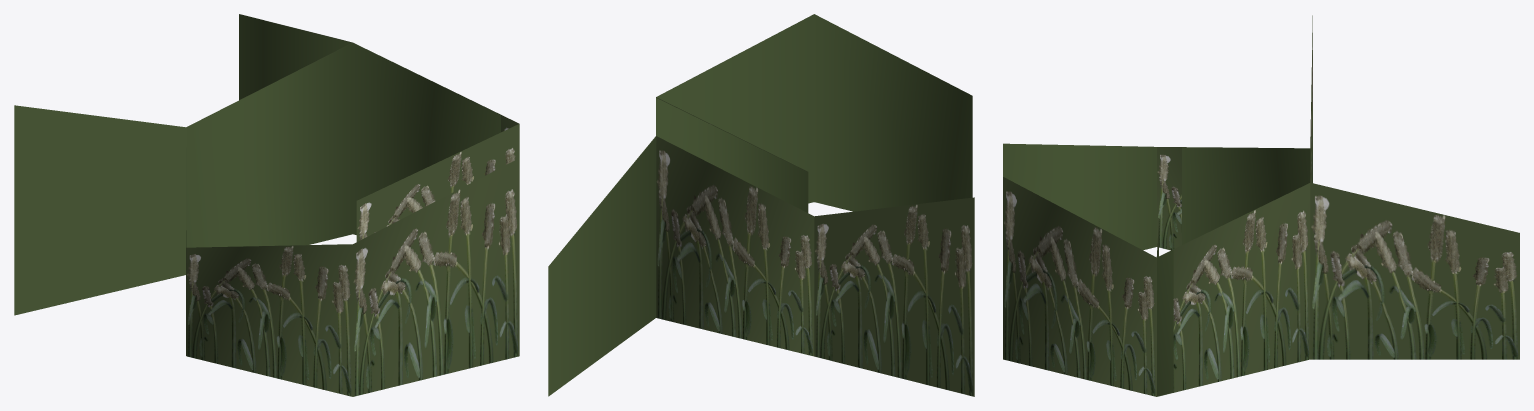
File: mveg5.glb
The picture shows the model from 3 angles, left to right: view 1: azimuth 30°, elevation 25°; view 2: azimuth 150°, elevation 25°; view 3: azimuth 270°, elevation 25°; orthographic projection. The views are drawn at different scales.
Visible parts, largest first — view 1: 01 Mesh0.001, 01 Mesh0; view 2: 01 Mesh0.001, 01 Mesh0; view 3: 01 Mesh0, 01 Mesh0.001.
Boxes of the visible parts, x1,y1,x2,y2 form: 01 Mesh0.001: [14, 14, 519, 355]; 01 Mesh0: [14, 14, 519, 396]; 01 Mesh0.001: [548, 14, 972, 395]; 01 Mesh0: [548, 14, 974, 396]; 01 Mesh0: [1003, 21, 1519, 396]; 01 Mesh0.001: [1003, 15, 1519, 396].
Bounding box in the file's own units: 4.74 × 2.26 × 5.47.
2 materials, 1 textured.
